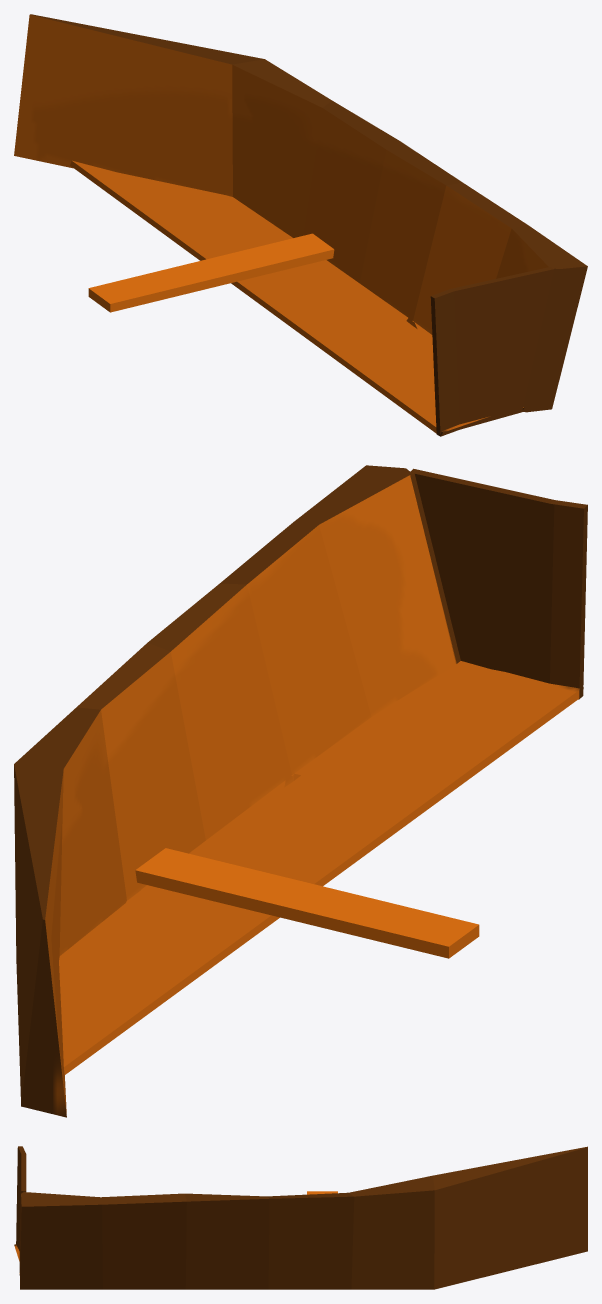
File: boat.glb
The picture shows the model from 3 angles, top to bottom: view 1: azimuth 30°, elevation 25°; view 2: azimuth 150°, elevation 25°; view 3: azimuth 270°, elevation 25°; orthographic projection. The views are drawn at different scales.
Visible parts, largest first — view 1: Cube, Cube.002; view 2: Cube, Cube.002; view 3: Cube.
Boxes of the visible parts, box(x1,y1,x2,y2) form: Cube: box(14, 14, 587, 436); Cube.002: box(88, 233, 334, 312); Cube: box(14, 465, 587, 1117); Cube.002: box(135, 848, 479, 958); Cube: box(14, 1146, 587, 1289).
Size of the model in its own units: 1.85 by 0.915 by 4.58.
Materials: 2 (2 with a texture image).
